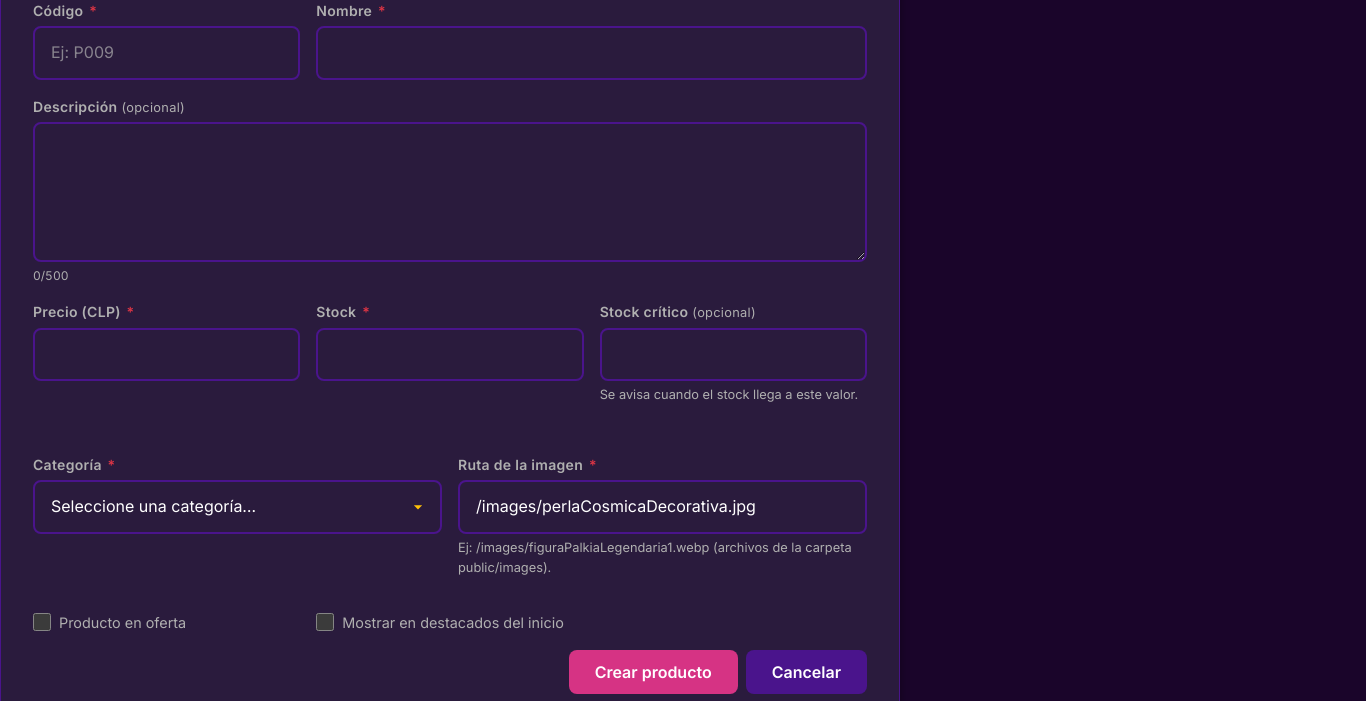
it: <AdminProductoForm /> — CRUD desde la interfaz › CREAR: un formulario válido agrega el producto a la base de datos
The image size is (1366, 701).
Type "P099" into the field labelled "Código *" at (167, 53), box [33,26,300,80]
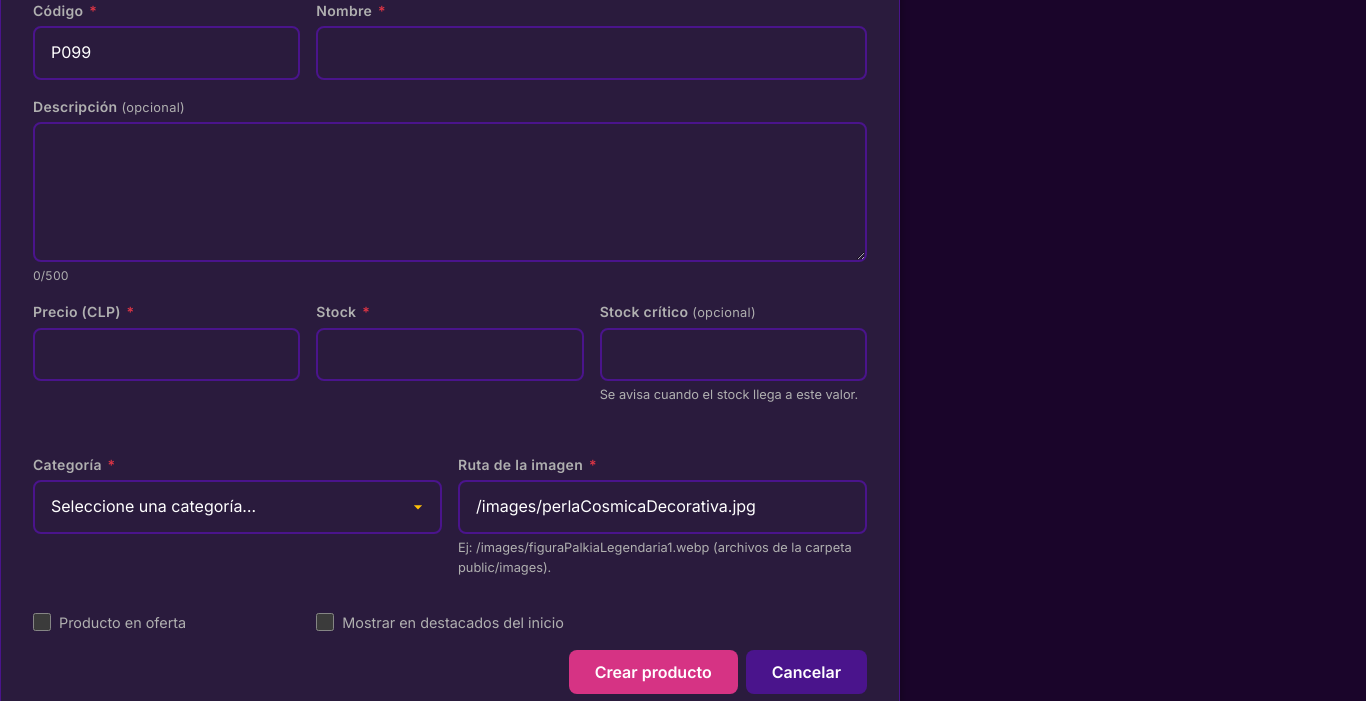
Type "Producto de prueba" into the field labelled "Nombre *" at (592, 53), box [316,26,867,80]
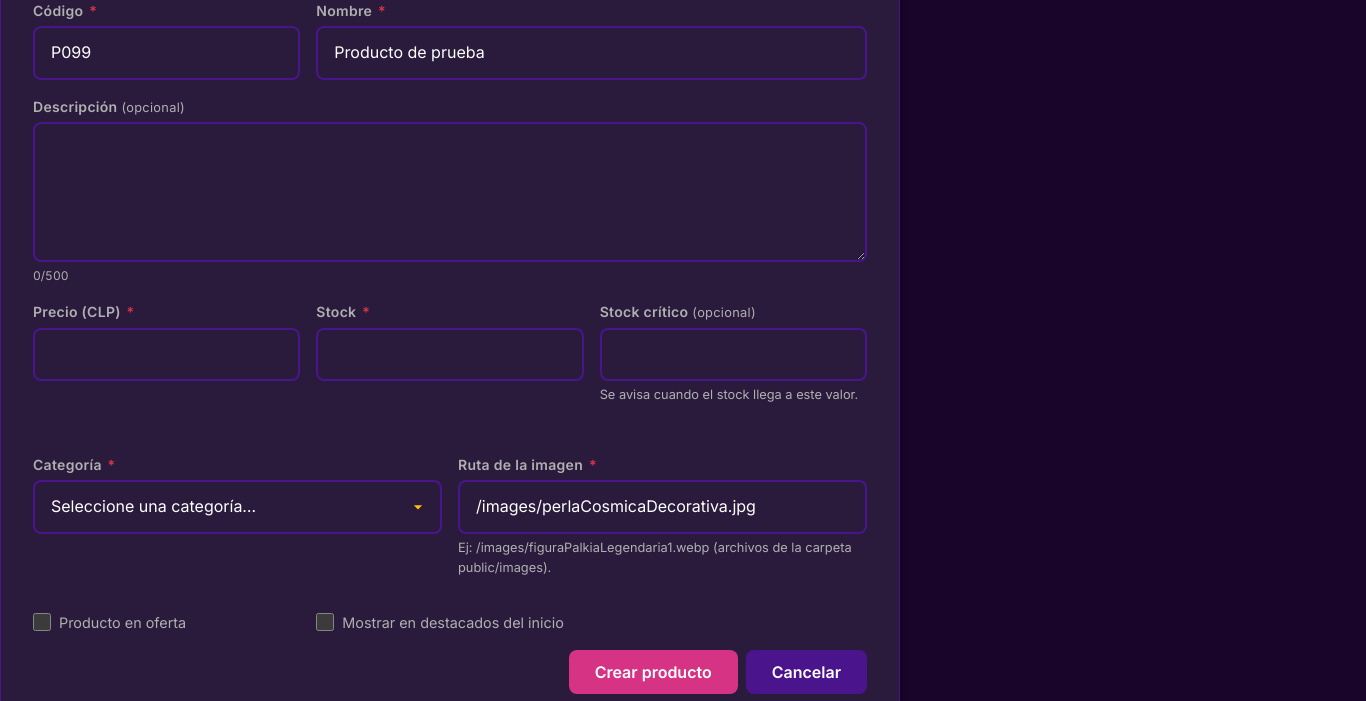
Type "15000" into the field labelled "Precio (CLP) *" at (167, 354), box [33,328,300,381]
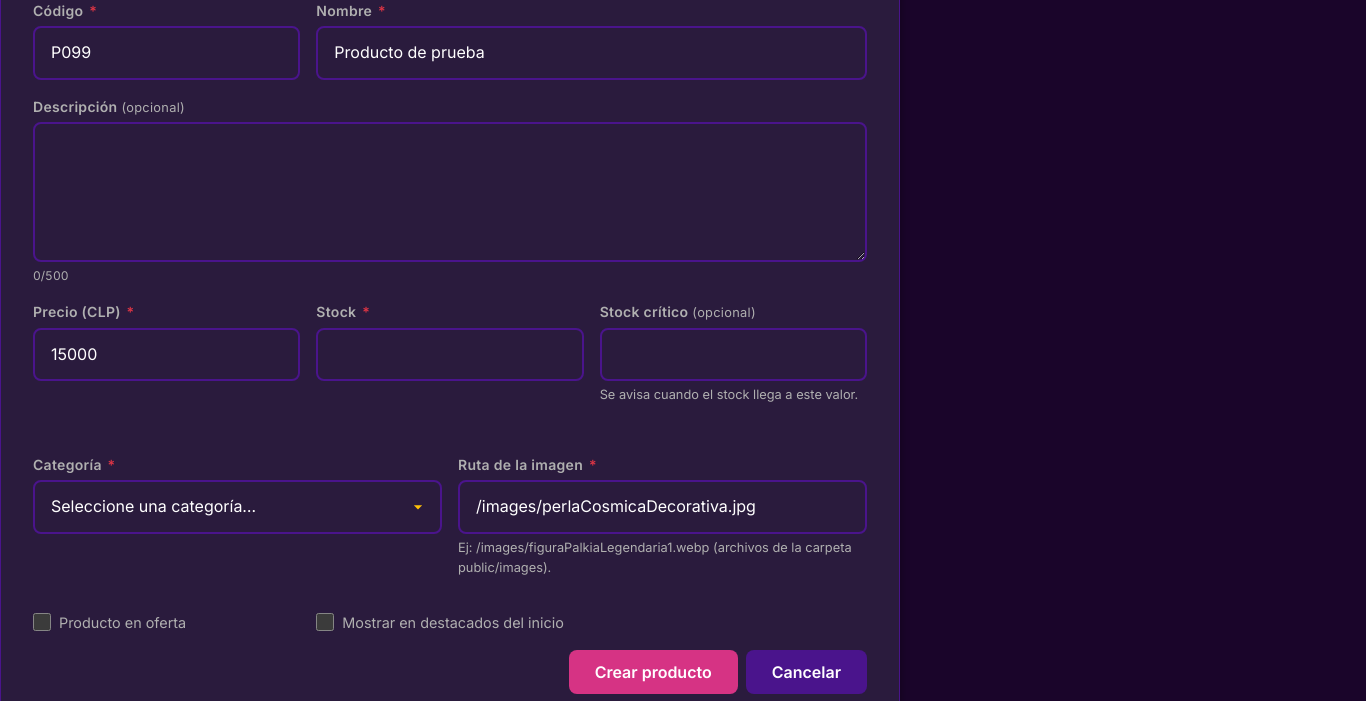
Type "5" into the field labelled "Stock *" at (450, 354), box [316,328,584,381]
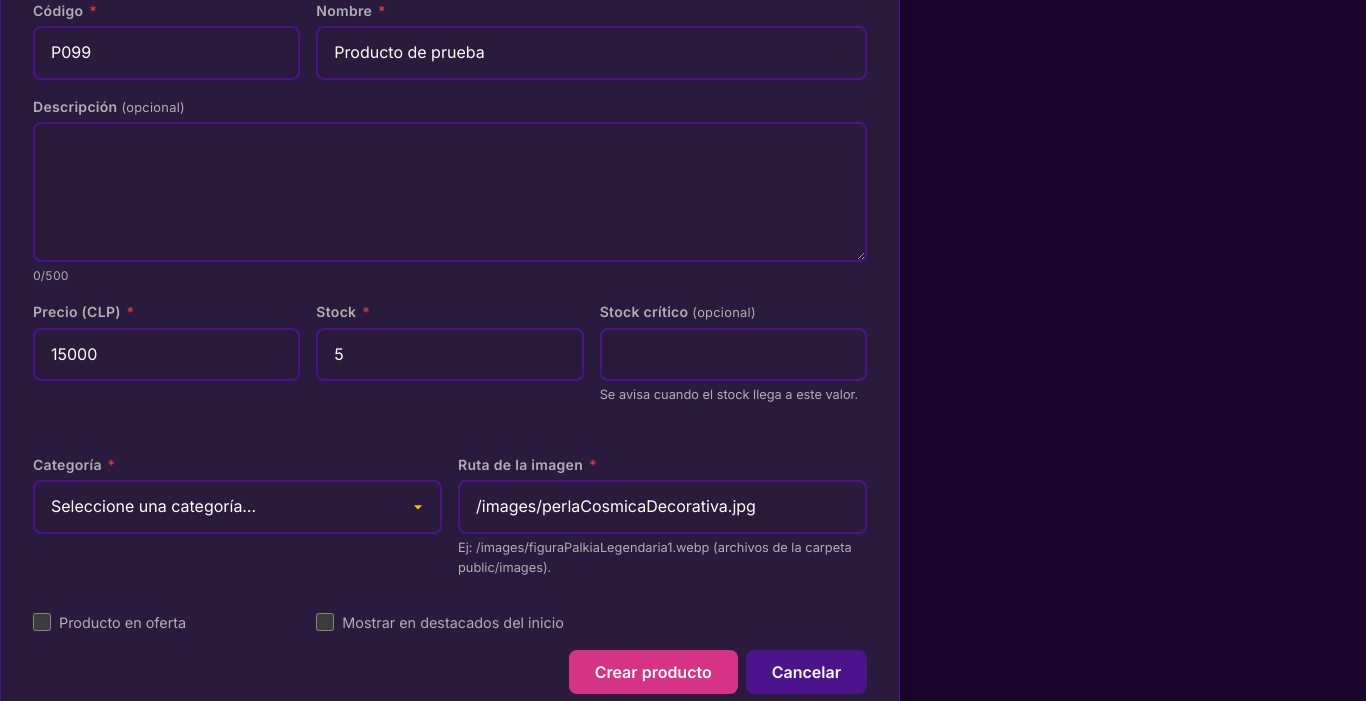
Select "Figuras" in the dropdown labelled "Categoría *" at (238, 507), box [33,480,442,534]
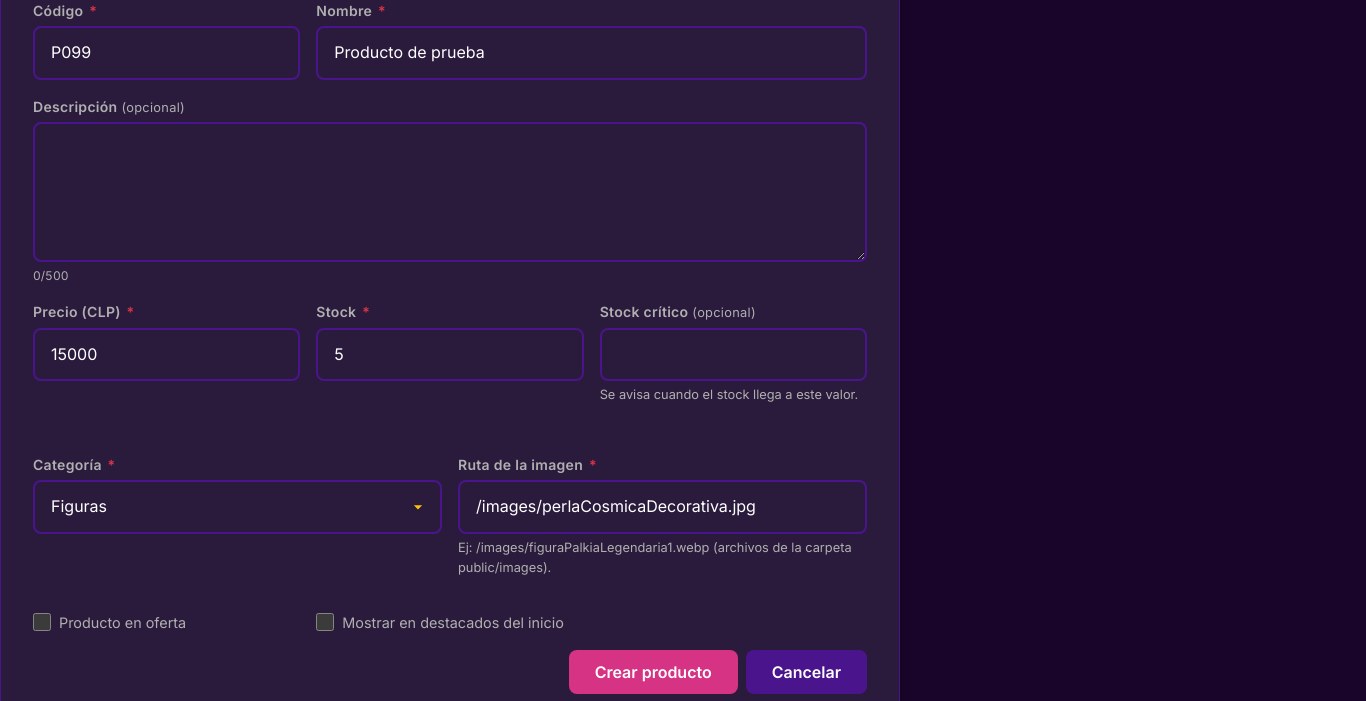
Click the button "Crear producto" at (653, 672), box [569,650,738,694]
(page scrolled)
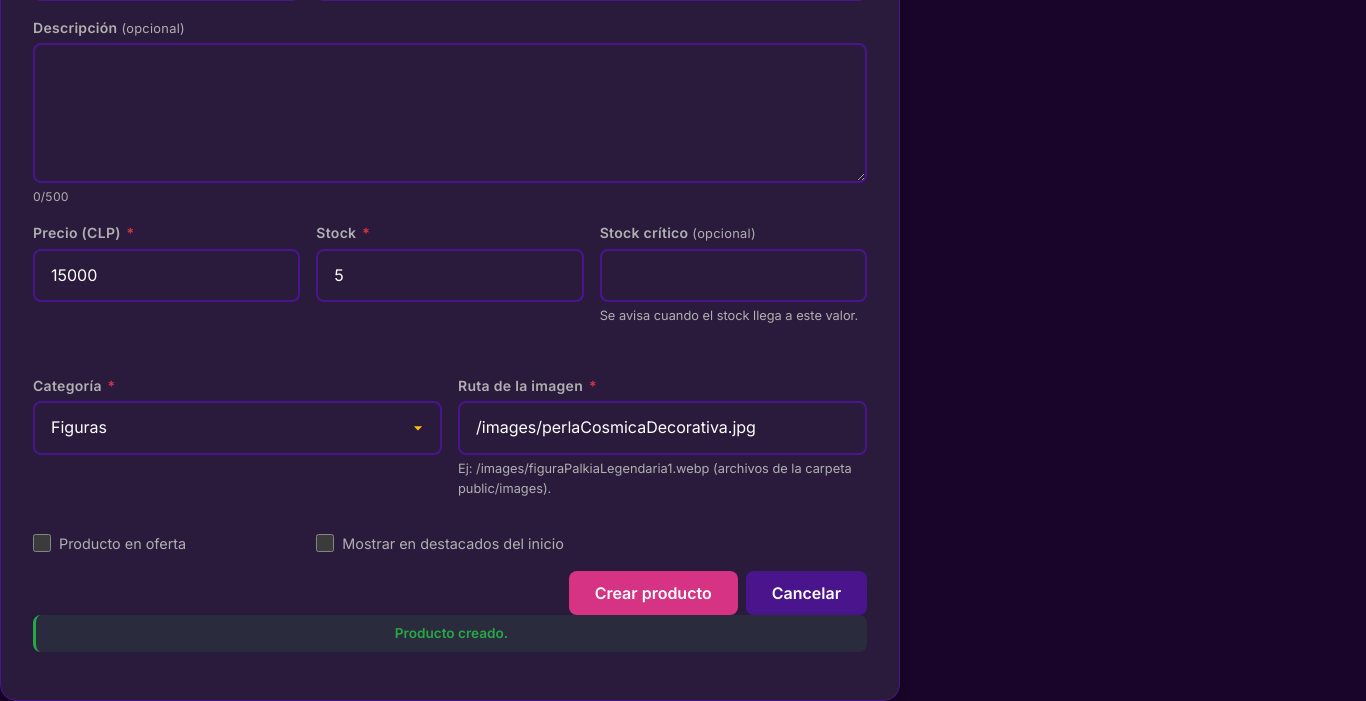
Now the text "Producto creado." is shown, box [33,615,867,652]
